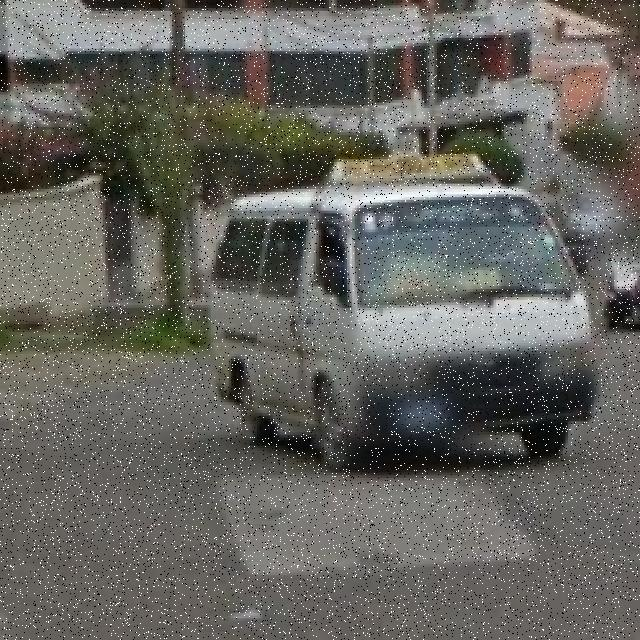cars: (209, 164, 598, 460)
